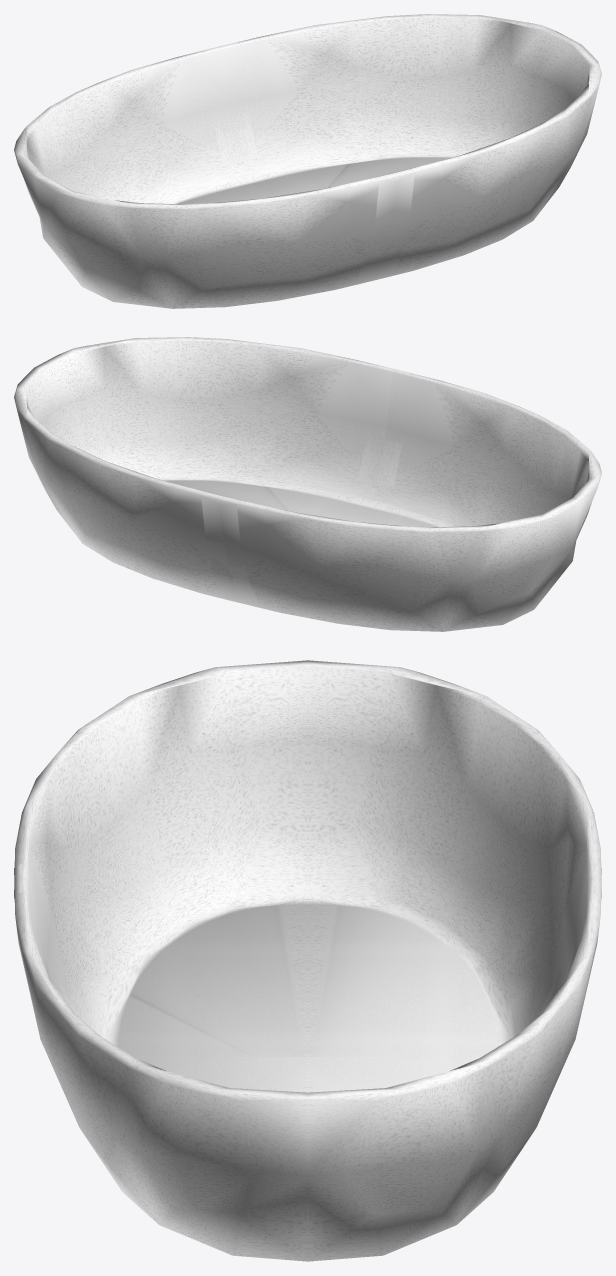
Rendered from ovalPlateFBX.fbx.
3 renders of one model, top to bottom at view 1: azimuth 30°, elevation 25°; view 2: azimuth 150°, elevation 25°; view 3: azimuth 270°, elevation 25°, orthographic. The views are drawn at different scales.
Visible parts, largest first — view 1: bath1_1; view 2: bath1_1; view 3: bath1_1.
Boxes of the visible parts, x1,y1,x2,y2 form: bath1_1: (14, 14, 601, 308); bath1_1: (14, 337, 601, 631); bath1_1: (14, 660, 601, 1261).
Size of the model in its own units: 301 by 64.5 by 170.
1 material, 1 textured.
